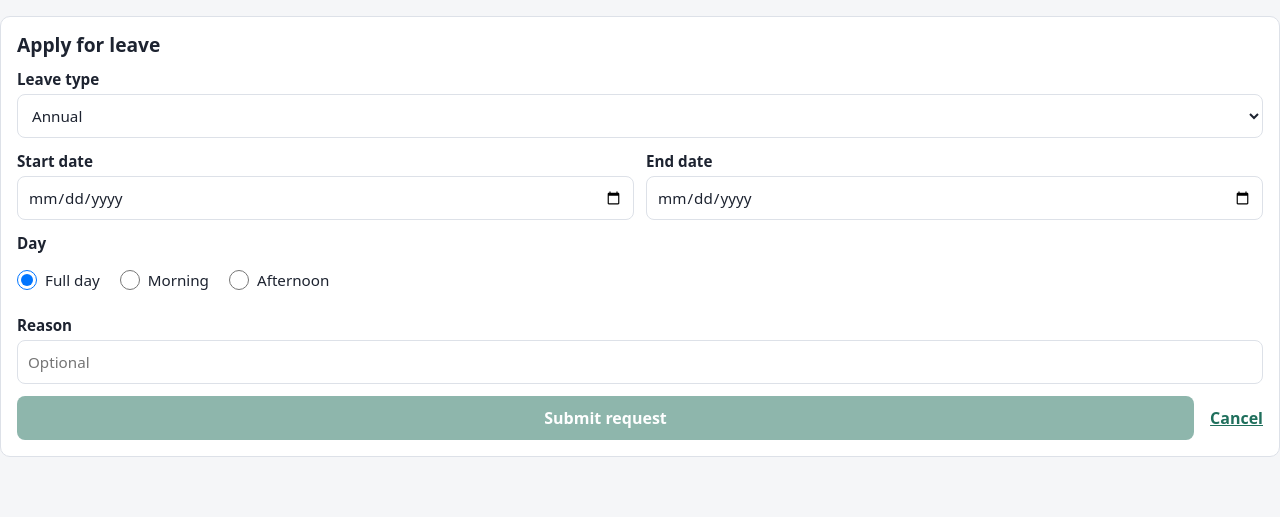
it: ApplyLeaveForm › submit stays disabled until both dates are valid
This screenshot has width=1280, height=517.
Expected: the button "Submit request" is disabled, [17,396,1194,440]
Type "2026-03-02" into the date field labelled "Start date".
click(326, 198); type("2026-03-02")  # box [17,176,634,220]
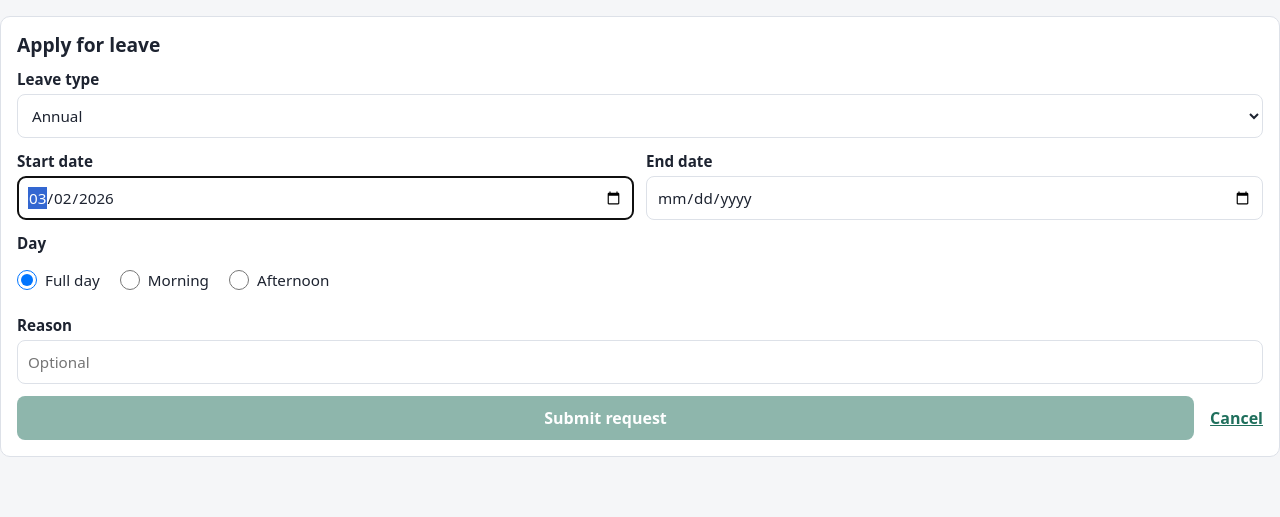
Expected: the button "Submit request" is disabled, [17,396,1194,440]
Type "2026-03-06" into the date field labelled "End date".
click(954, 198); type("2026-03-06")  # box [646,176,1263,220]
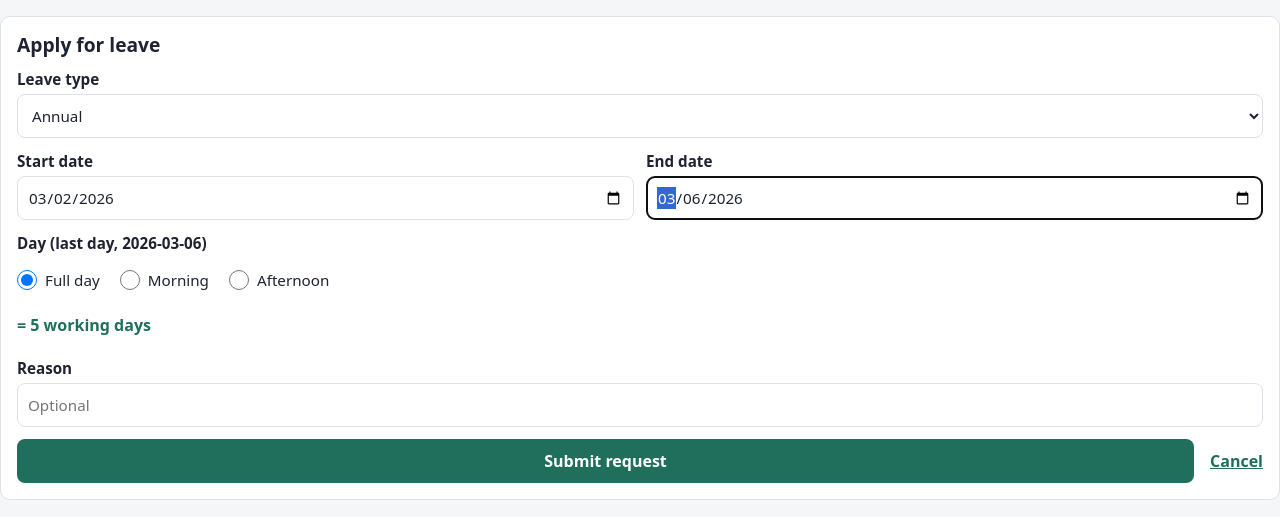
Result: the button "Submit request" is enabled at [17,439,1194,483]
